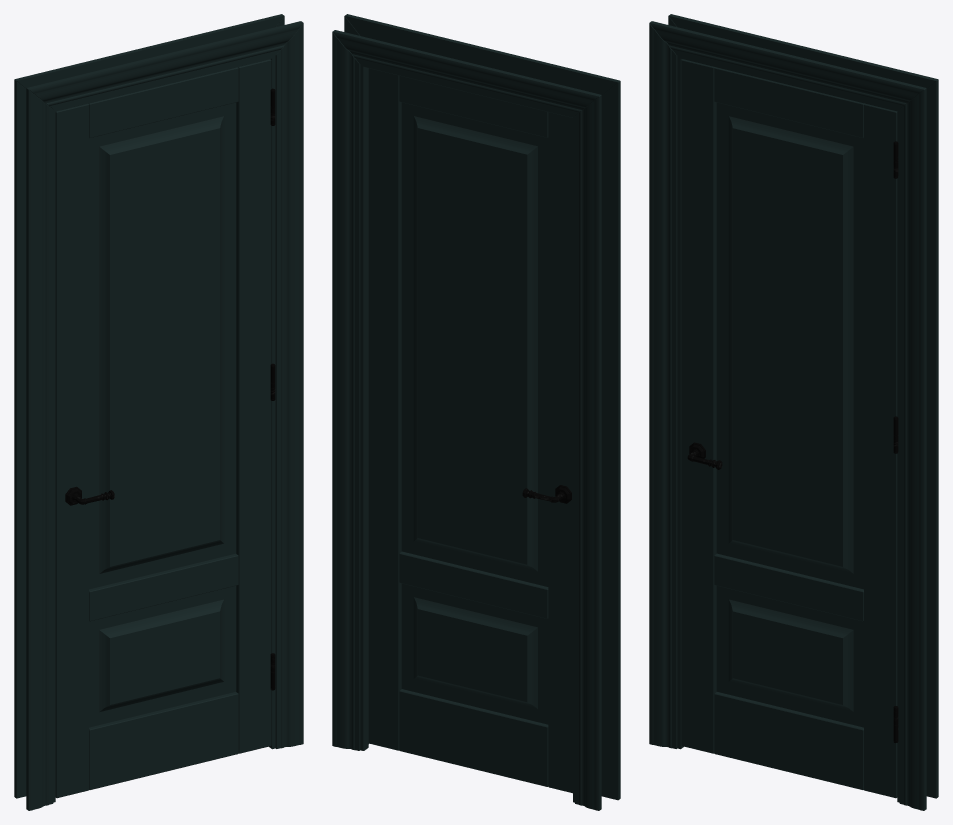
Rendered from Door 5.fbx.
The picture shows the model from 3 angles, left to right: view 1: azimuth 30°, elevation 25°; view 2: azimuth 150°, elevation 25°; view 3: azimuth 330°, elevation 25°; orthographic projection.
Visible parts, largest first — view 1: dver'; view 2: dver'; view 3: dver'.
Part boxes in pixels (box(x1,y1,x2,y2)): dver': box(14, 14, 303, 810); dver': box(332, 14, 620, 810); dver': box(649, 14, 938, 810).
Size of the model in its own units: 95.86 by 240 by 17.97.
